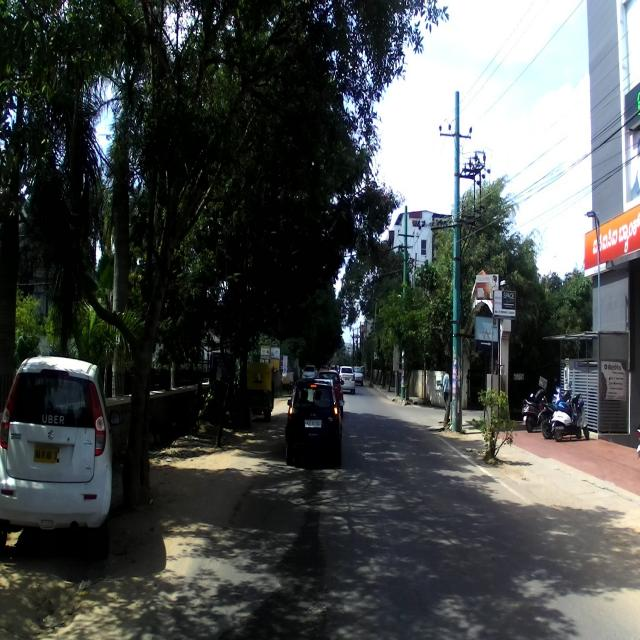car: (0, 354, 120, 562), (284, 376, 344, 468), (338, 366, 355, 396), (353, 366, 364, 386)
scooter: (551, 392, 589, 443)
